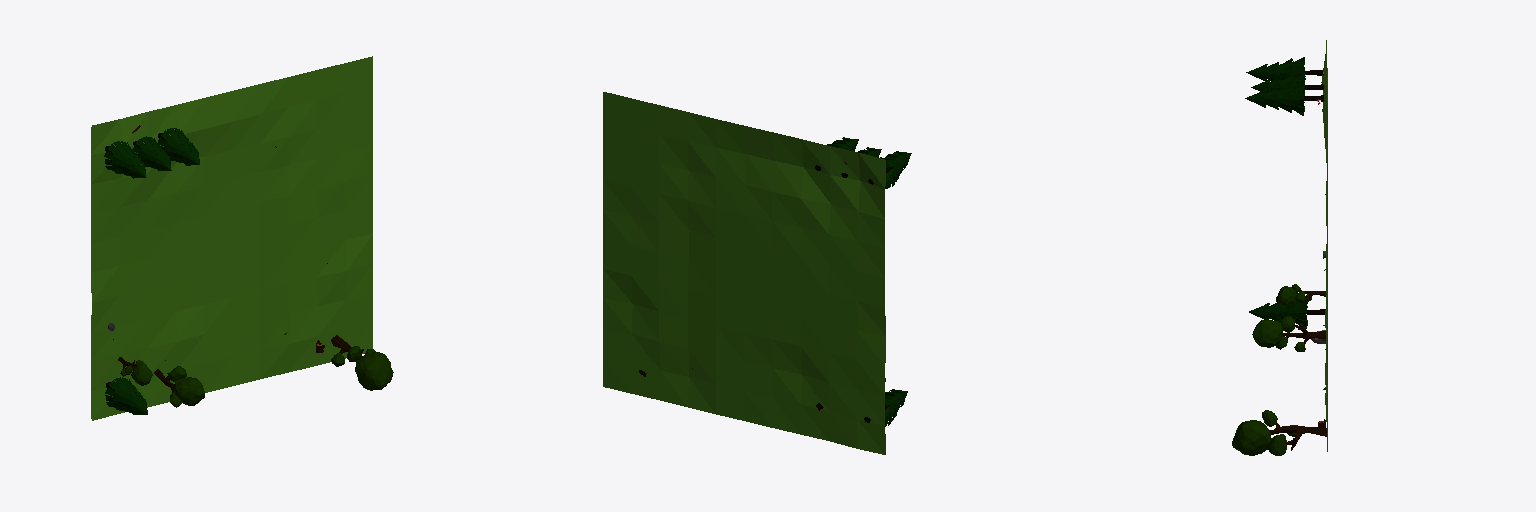
The model's file is stationary_landscape_v5_lowpoly.obj.
The picture shows the model from 3 angles: view 1: azimuth 30°, elevation 25°; view 2: azimuth 150°, elevation 25°; view 3: azimuth 270°, elevation 25°; orthographic projection.
Parts seen in each view (by area): view 1: stationary_landscape_lowpoy pPlane1, NatureFreePack1:Tree1NaturePack stationary_landscape_lowpoy, stationary_landscape_lowpoy Tree1NaturePack, stationary_landscape_lowpoy NaturePackTree4, stationary_landscape_lowpoy NatureFreePack1:NaturePackTree2, stationary_landscape_lowpoy NaturePackTree3, stationary_landscape_lowpoy NaturePackTree2, stationary_landscape_lowpoy Tree1NaturePack1; view 2: stationary_landscape_lowpoy pPlane1, stationary_landscape_lowpoy NatureFreePack1:NaturePackTree2, stationary_landscape_lowpoy NaturePackTree4; view 3: NatureFreePack1:Tree1NaturePack stationary_landscape_lowpoy, stationary_landscape_lowpoy Tree1NaturePack, stationary_landscape_lowpoy NaturePackTree3, stationary_landscape_lowpoy pPlane1, stationary_landscape_lowpoy NaturePackTree4, stationary_landscape_lowpoy NatureFreePack1:NaturePackTree2, stationary_landscape_lowpoy Tree1NaturePack1, stationary_landscape_lowpoy NaturePackTree2.
Part boxes in pixels (bbox=[...]): stationary_landscape_lowpoy pPlane1: bbox=[91, 56, 372, 420]; NatureFreePack1:Tree1NaturePack stationary_landscape_lowpoy: bbox=[331, 335, 393, 390]; stationary_landscape_lowpoy Tree1NaturePack: bbox=[154, 366, 204, 407]; stationary_landscape_lowpoy NaturePackTree4: bbox=[105, 377, 147, 414]; stationary_landscape_lowpoy NatureFreePack1:NaturePackTree2: bbox=[104, 141, 145, 178]; stationary_landscape_lowpoy NaturePackTree3: bbox=[157, 128, 199, 165]; stationary_landscape_lowpoy NaturePackTree2: bbox=[133, 136, 171, 170]; stationary_landscape_lowpoy Tree1NaturePack1: bbox=[118, 357, 152, 385]; stationary_landscape_lowpoy pPlane1: bbox=[603, 92, 885, 454]; stationary_landscape_lowpoy NatureFreePack1:NaturePackTree2: bbox=[868, 151, 911, 188]; stationary_landscape_lowpoy NaturePackTree4: bbox=[864, 389, 907, 426]; NatureFreePack1:Tree1NaturePack stationary_landscape_lowpoy: bbox=[1232, 410, 1326, 455]; stationary_landscape_lowpoy Tree1NaturePack: bbox=[1252, 316, 1325, 351]; stationary_landscape_lowpoy NaturePackTree3: bbox=[1245, 82, 1323, 115]; stationary_landscape_lowpoy pPlane1: bbox=[1321, 40, 1327, 451]; stationary_landscape_lowpoy NaturePackTree4: bbox=[1249, 298, 1325, 328]; stationary_landscape_lowpoy NatureFreePack1:NaturePackTree2: bbox=[1246, 57, 1322, 80]; stationary_landscape_lowpoy Tree1NaturePack1: bbox=[1276, 284, 1325, 305]; stationary_landscape_lowpoy NaturePackTree2: bbox=[1251, 73, 1323, 102].
Size of the model in its own units: 507 by 507 by 150.